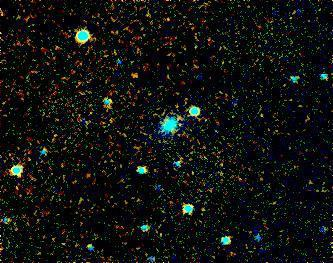star: (119, 59, 149, 89)
